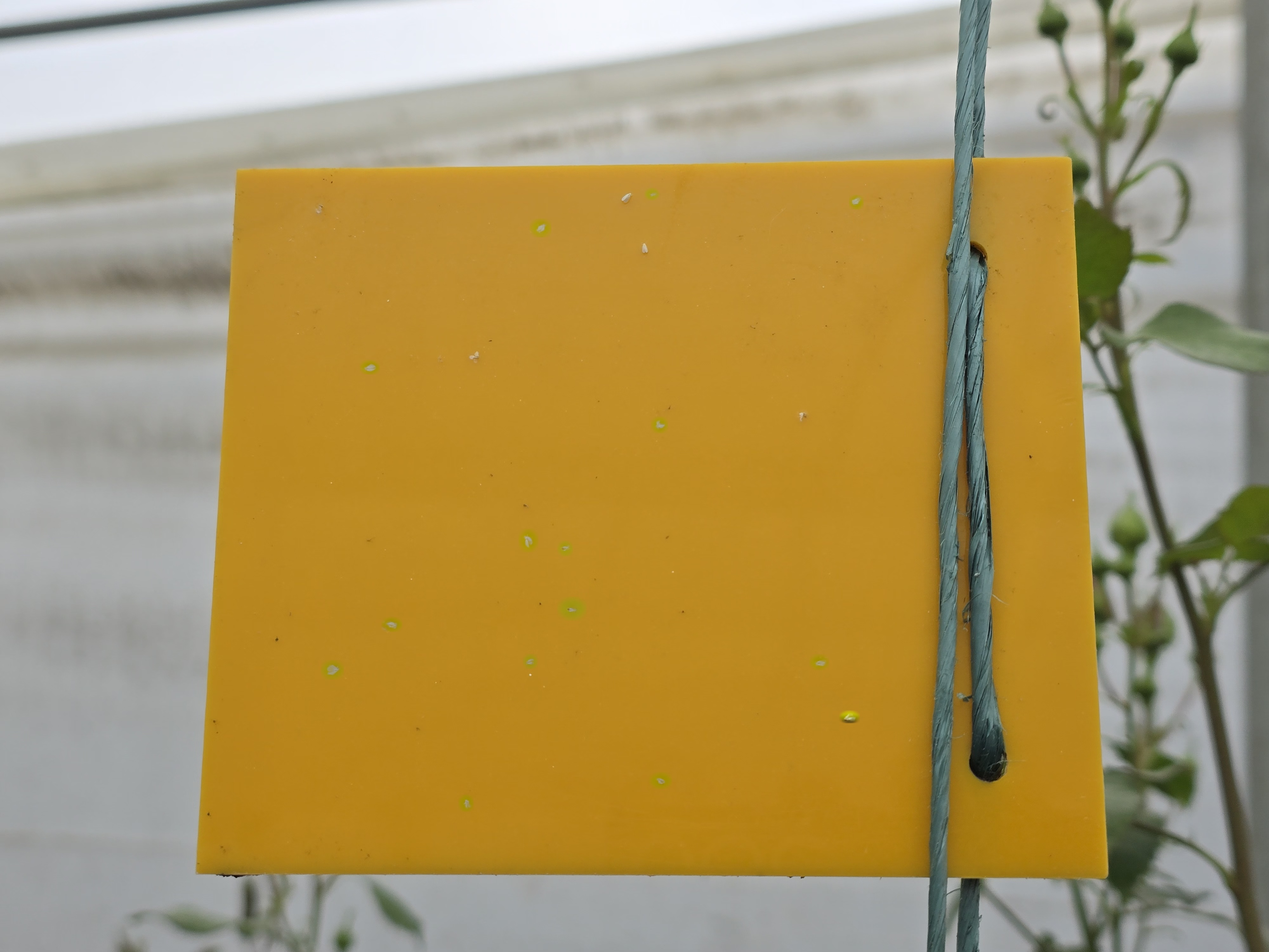WF: (562, 600, 582, 617), (619, 192, 635, 206), (521, 532, 535, 548), (324, 663, 340, 677), (533, 221, 548, 235), (469, 351, 482, 364), (384, 619, 399, 630), (653, 775, 668, 786), (812, 657, 826, 668), (641, 242, 651, 256), (363, 362, 377, 372), (842, 712, 857, 721), (654, 419, 665, 431), (461, 797, 471, 809), (560, 543, 570, 554), (525, 656, 535, 666), (851, 197, 861, 207), (647, 189, 657, 198)
